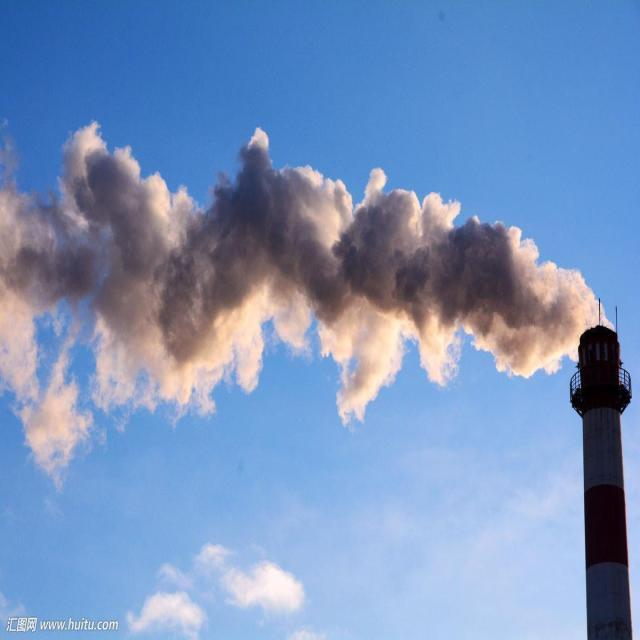Smoke: (0, 117, 580, 426), (29, 316, 94, 476)
